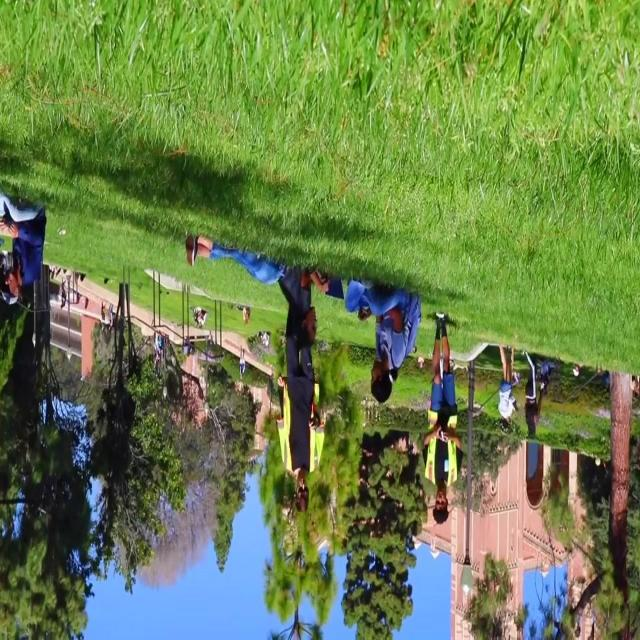jacket: (273, 378, 326, 480), (420, 407, 468, 490)
